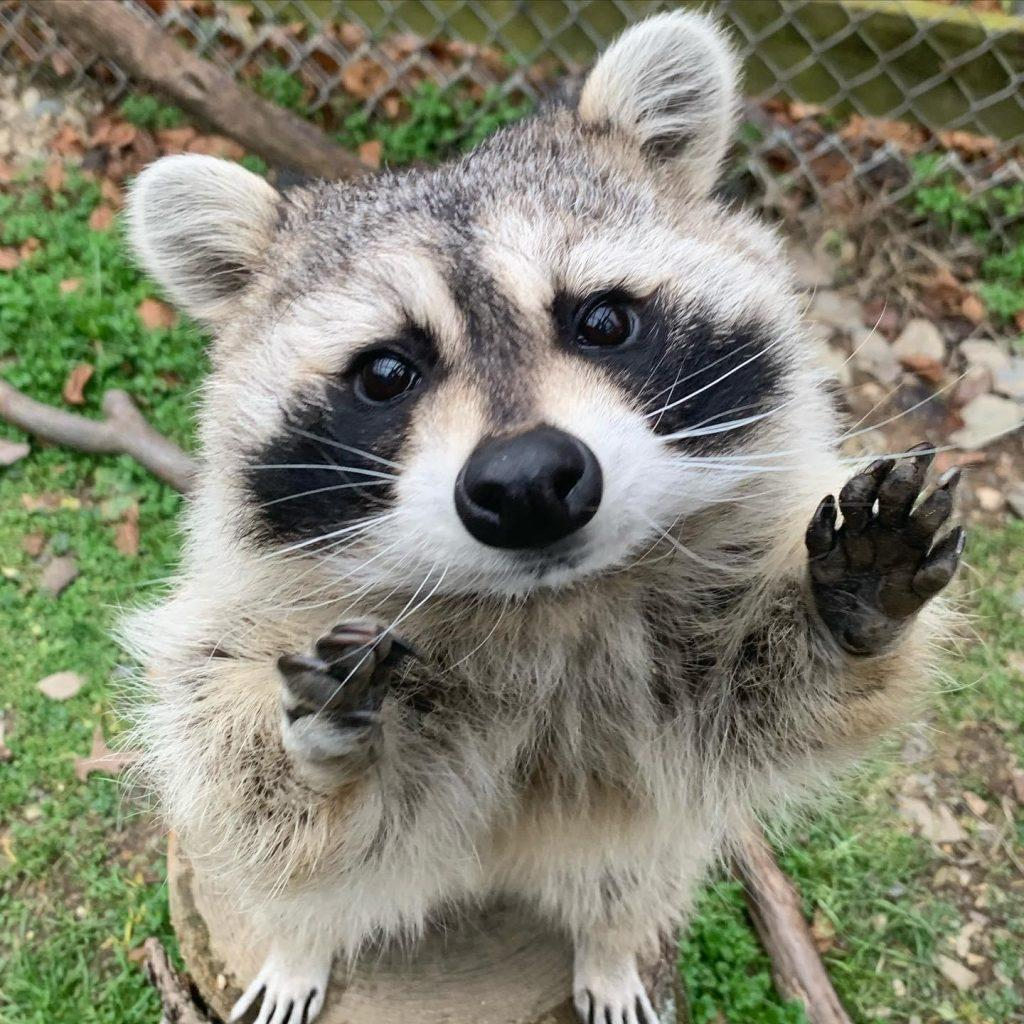raccoon: (129, 8, 966, 1024)
